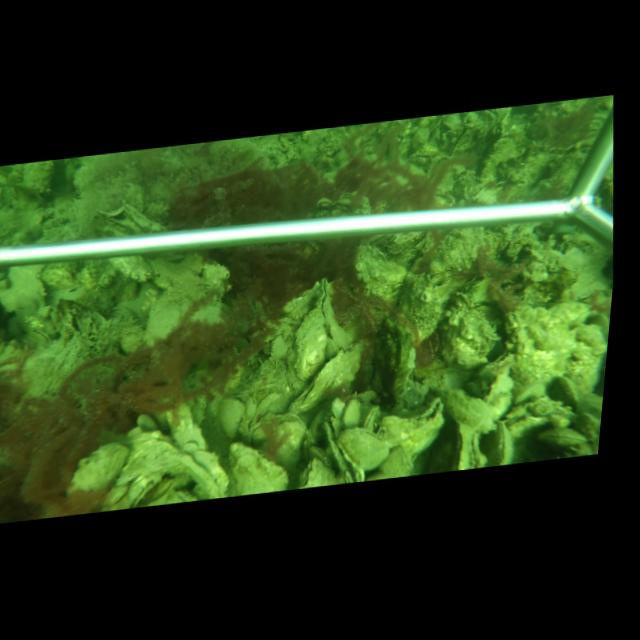Oyster-Closed: (287, 340, 363, 414), (378, 395, 446, 457), (252, 414, 308, 469), (291, 305, 327, 381), (318, 279, 354, 344), (340, 425, 390, 471), (279, 277, 325, 318), (467, 350, 516, 383), (124, 201, 167, 230), (451, 419, 474, 470), (536, 427, 589, 447), (298, 457, 334, 485), (490, 421, 511, 463), (448, 125, 475, 156), (359, 405, 383, 427), (341, 399, 361, 425), (95, 203, 124, 219)
Oyster-Indeterminate: (441, 292, 498, 370), (354, 242, 406, 308), (232, 441, 291, 490), (400, 278, 443, 345)
Oyster-Open: (323, 416, 363, 477)
